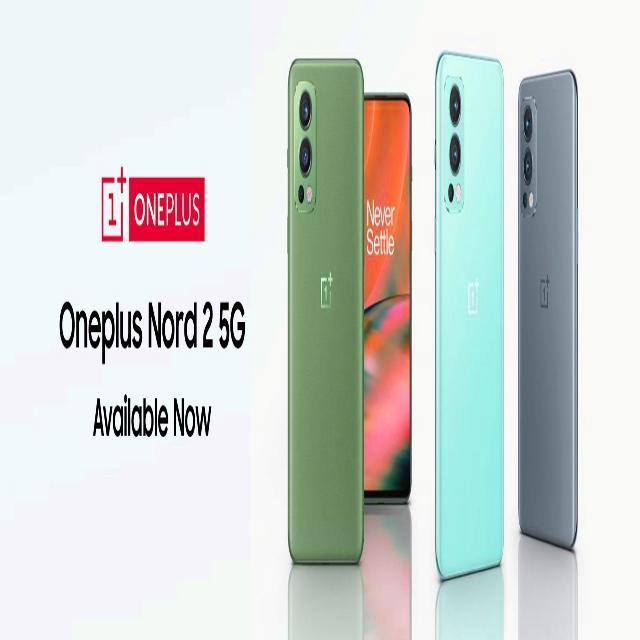Phone: (288, 61, 368, 564), (433, 50, 504, 588), (516, 67, 585, 555), (360, 89, 416, 513)
